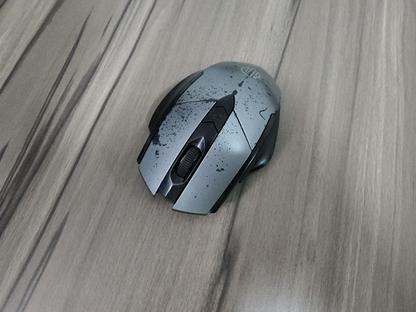mouse: (135, 60, 282, 216)
